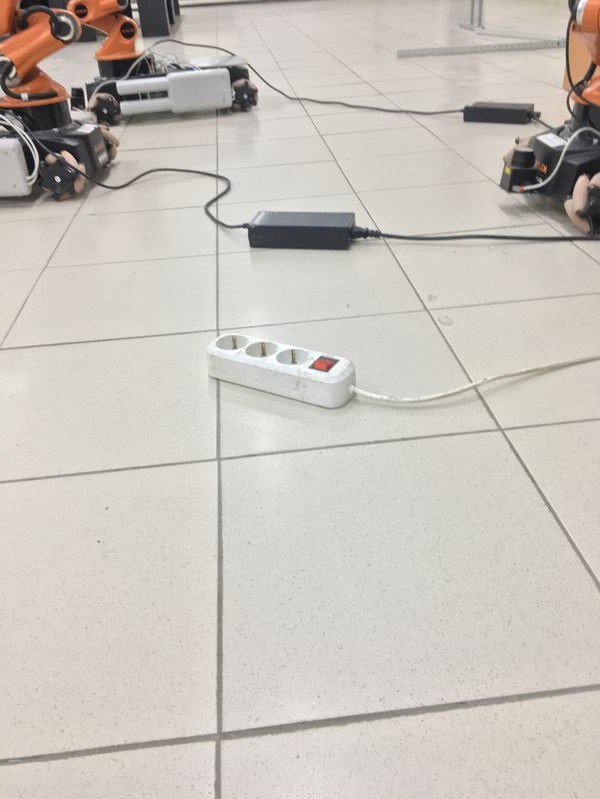socket: (193, 322, 373, 415)
